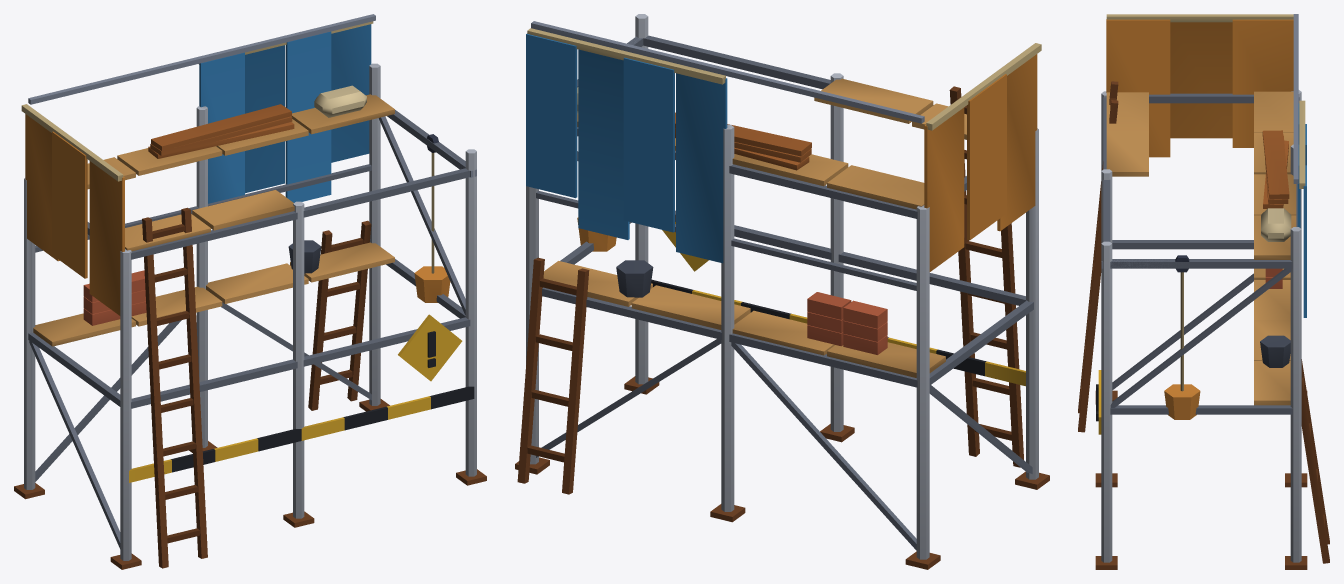
Rendered from b_scaffold_2x1.glb.
3 views of the same model, side by side, from view 1: azimuth 30°, elevation 25°; view 2: azimuth 150°, elevation 25°; view 3: azimuth 270°, elevation 25° (orthographic). The views are drawn at different scales.
Parts seen in each view (by area): view 1: body, sway_tarp1, sway_tarp3; view 2: body, sway_tarp1, sway_tarp3; view 3: body, sway_tarp3, sway_tarp1.
Part boxes in pixels (box(x1,y1,x2,y2)): body: box(14, 14, 486, 569); sway_tarp1: box(199, 21, 373, 203); sway_tarp3: box(21, 104, 124, 315); body: box(515, 14, 1049, 569); sway_tarp1: box(526, 28, 727, 263); sway_tarp3: box(924, 43, 1041, 271); body: box(1078, 14, 1329, 569); sway_tarp3: box(1106, 14, 1293, 157); sway_tarp1: box(1297, 100, 1306, 317).
Size of the model in its own units: 4.15 by 4.23 by 2.5.
